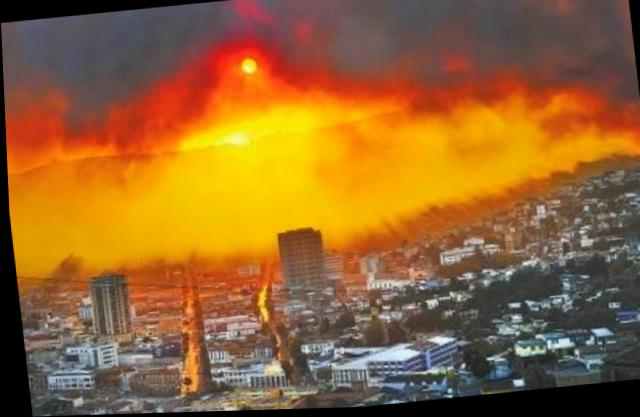fire: (6, 49, 639, 291)
